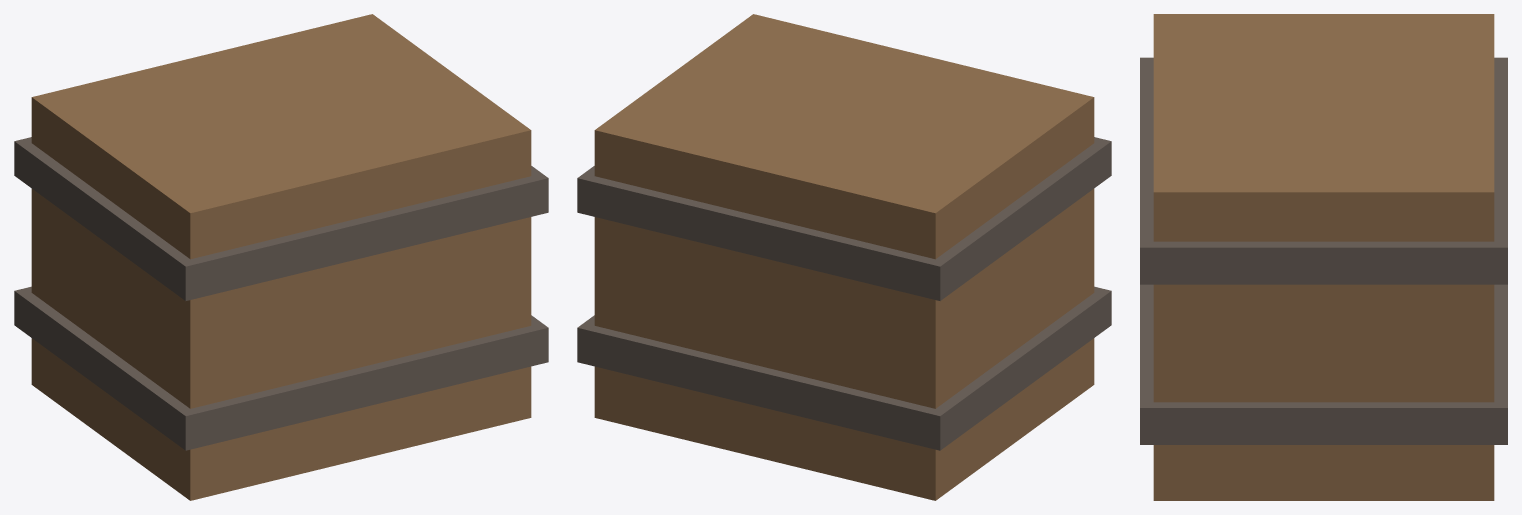
The model's file is crate.glb.
3 renders of one model, left to right at view 1: azimuth 30°, elevation 25°; view 2: azimuth 150°, elevation 25°; view 3: azimuth 270°, elevation 25°, orthographic. The views are drawn at different scales.
Visible parts, largest first — view 1: crate; view 2: crate; view 3: crate.
Part boxes in pixels (x1,y1,x2,y2): crate: [14, 14, 548, 500]; crate: [577, 14, 1111, 500]; crate: [1140, 14, 1507, 500].
Size of the model in its own units: 0.66 by 0.5 by 0.54.
